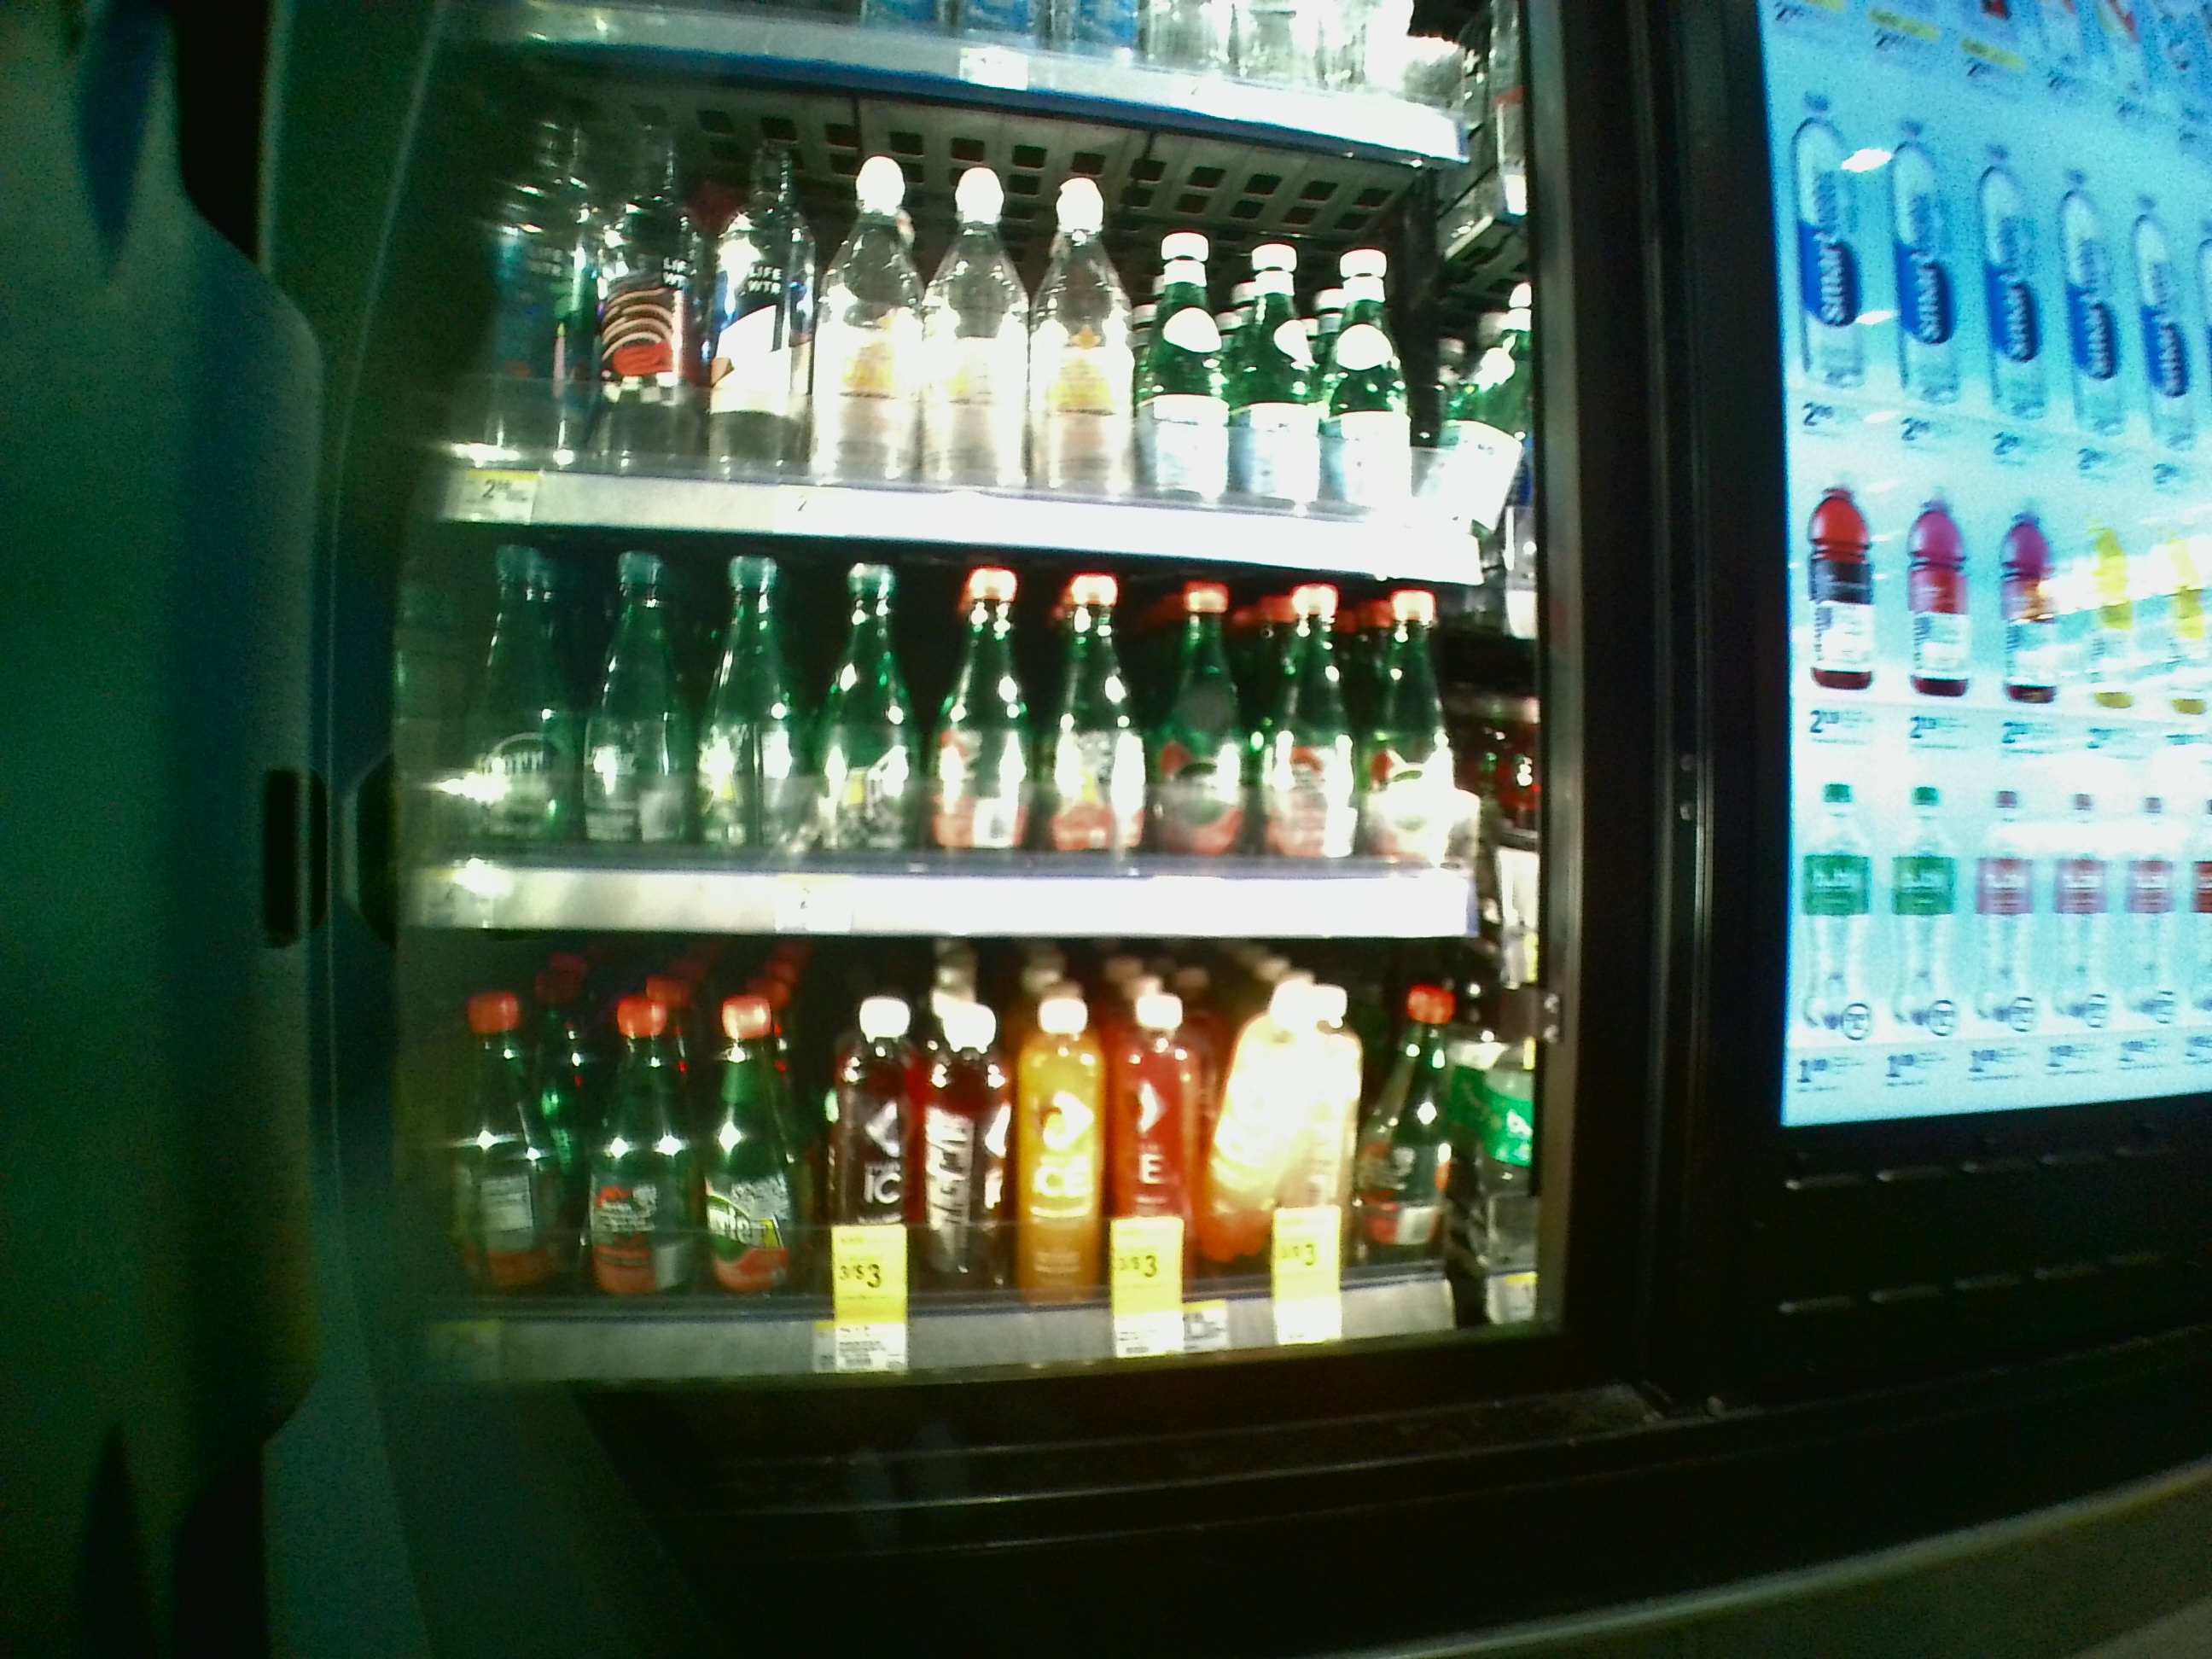Shelf: (415, 938, 1538, 1384), (425, 523, 1529, 934)
